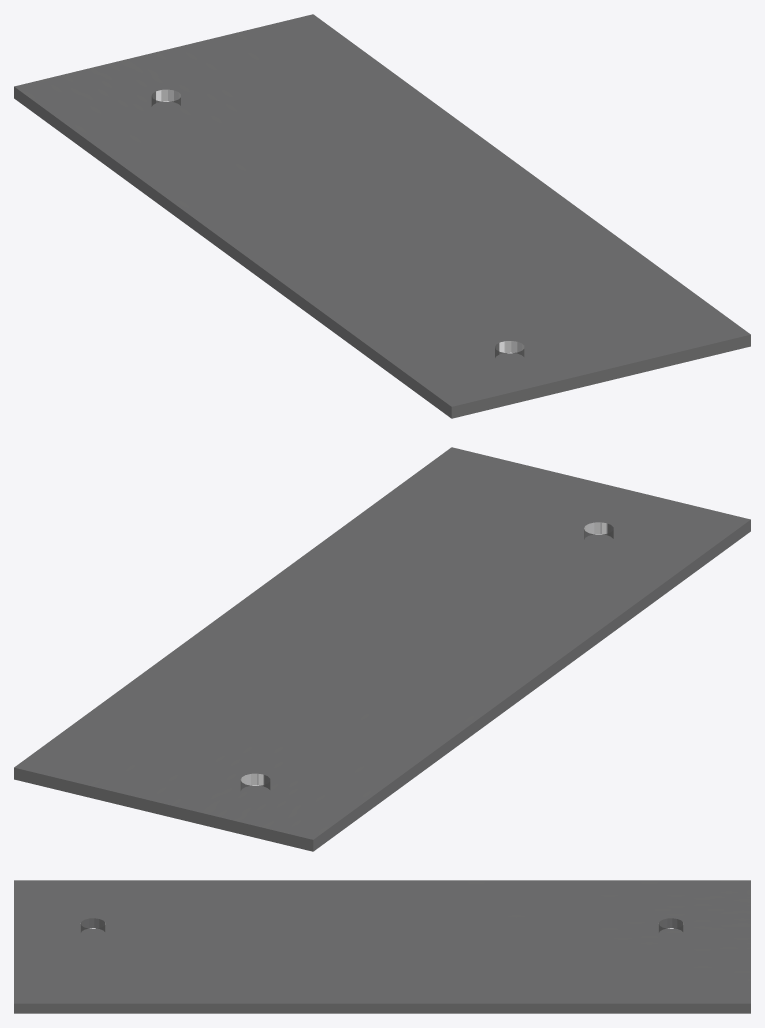
Rendered from Roof.glb.
3 renders of one model, top to bottom at view 1: azimuth 30°, elevation 25°; view 2: azimuth 150°, elevation 25°; view 3: azimuth 270°, elevation 25°, orthographic. The views are drawn at different scales.
Parts seen in each view (by area): view 1: Roof; view 2: Roof; view 3: Roof.
Boxes of the visible parts, x1,y1,x2,y2 form: Roof: [14, 14, 750, 418]; Roof: [14, 447, 750, 851]; Roof: [14, 880, 750, 1013].
Bounding box in the file's own units: 1.6 × 0.0644 × 4.06.
1 material, 1 textured.
